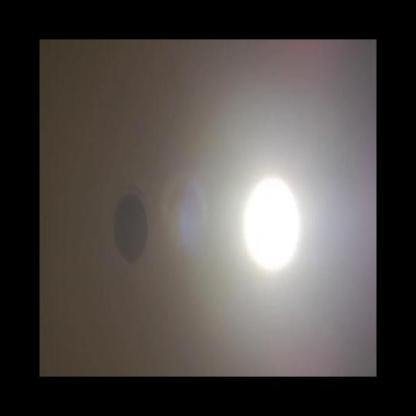light_off: (104, 166, 158, 281)
